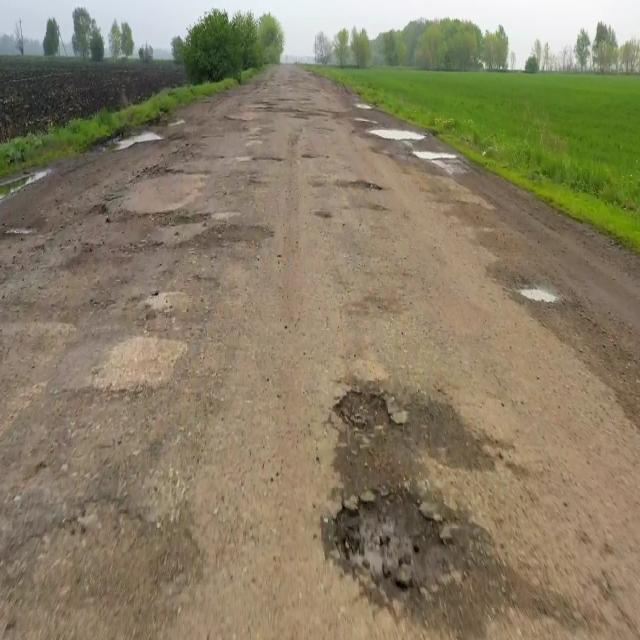road-pothole: (337, 490, 448, 588), (51, 207, 184, 279), (333, 395, 398, 448), (0, 168, 52, 209), (91, 120, 160, 150), (511, 280, 563, 304), (369, 130, 430, 146), (412, 152, 453, 167)
